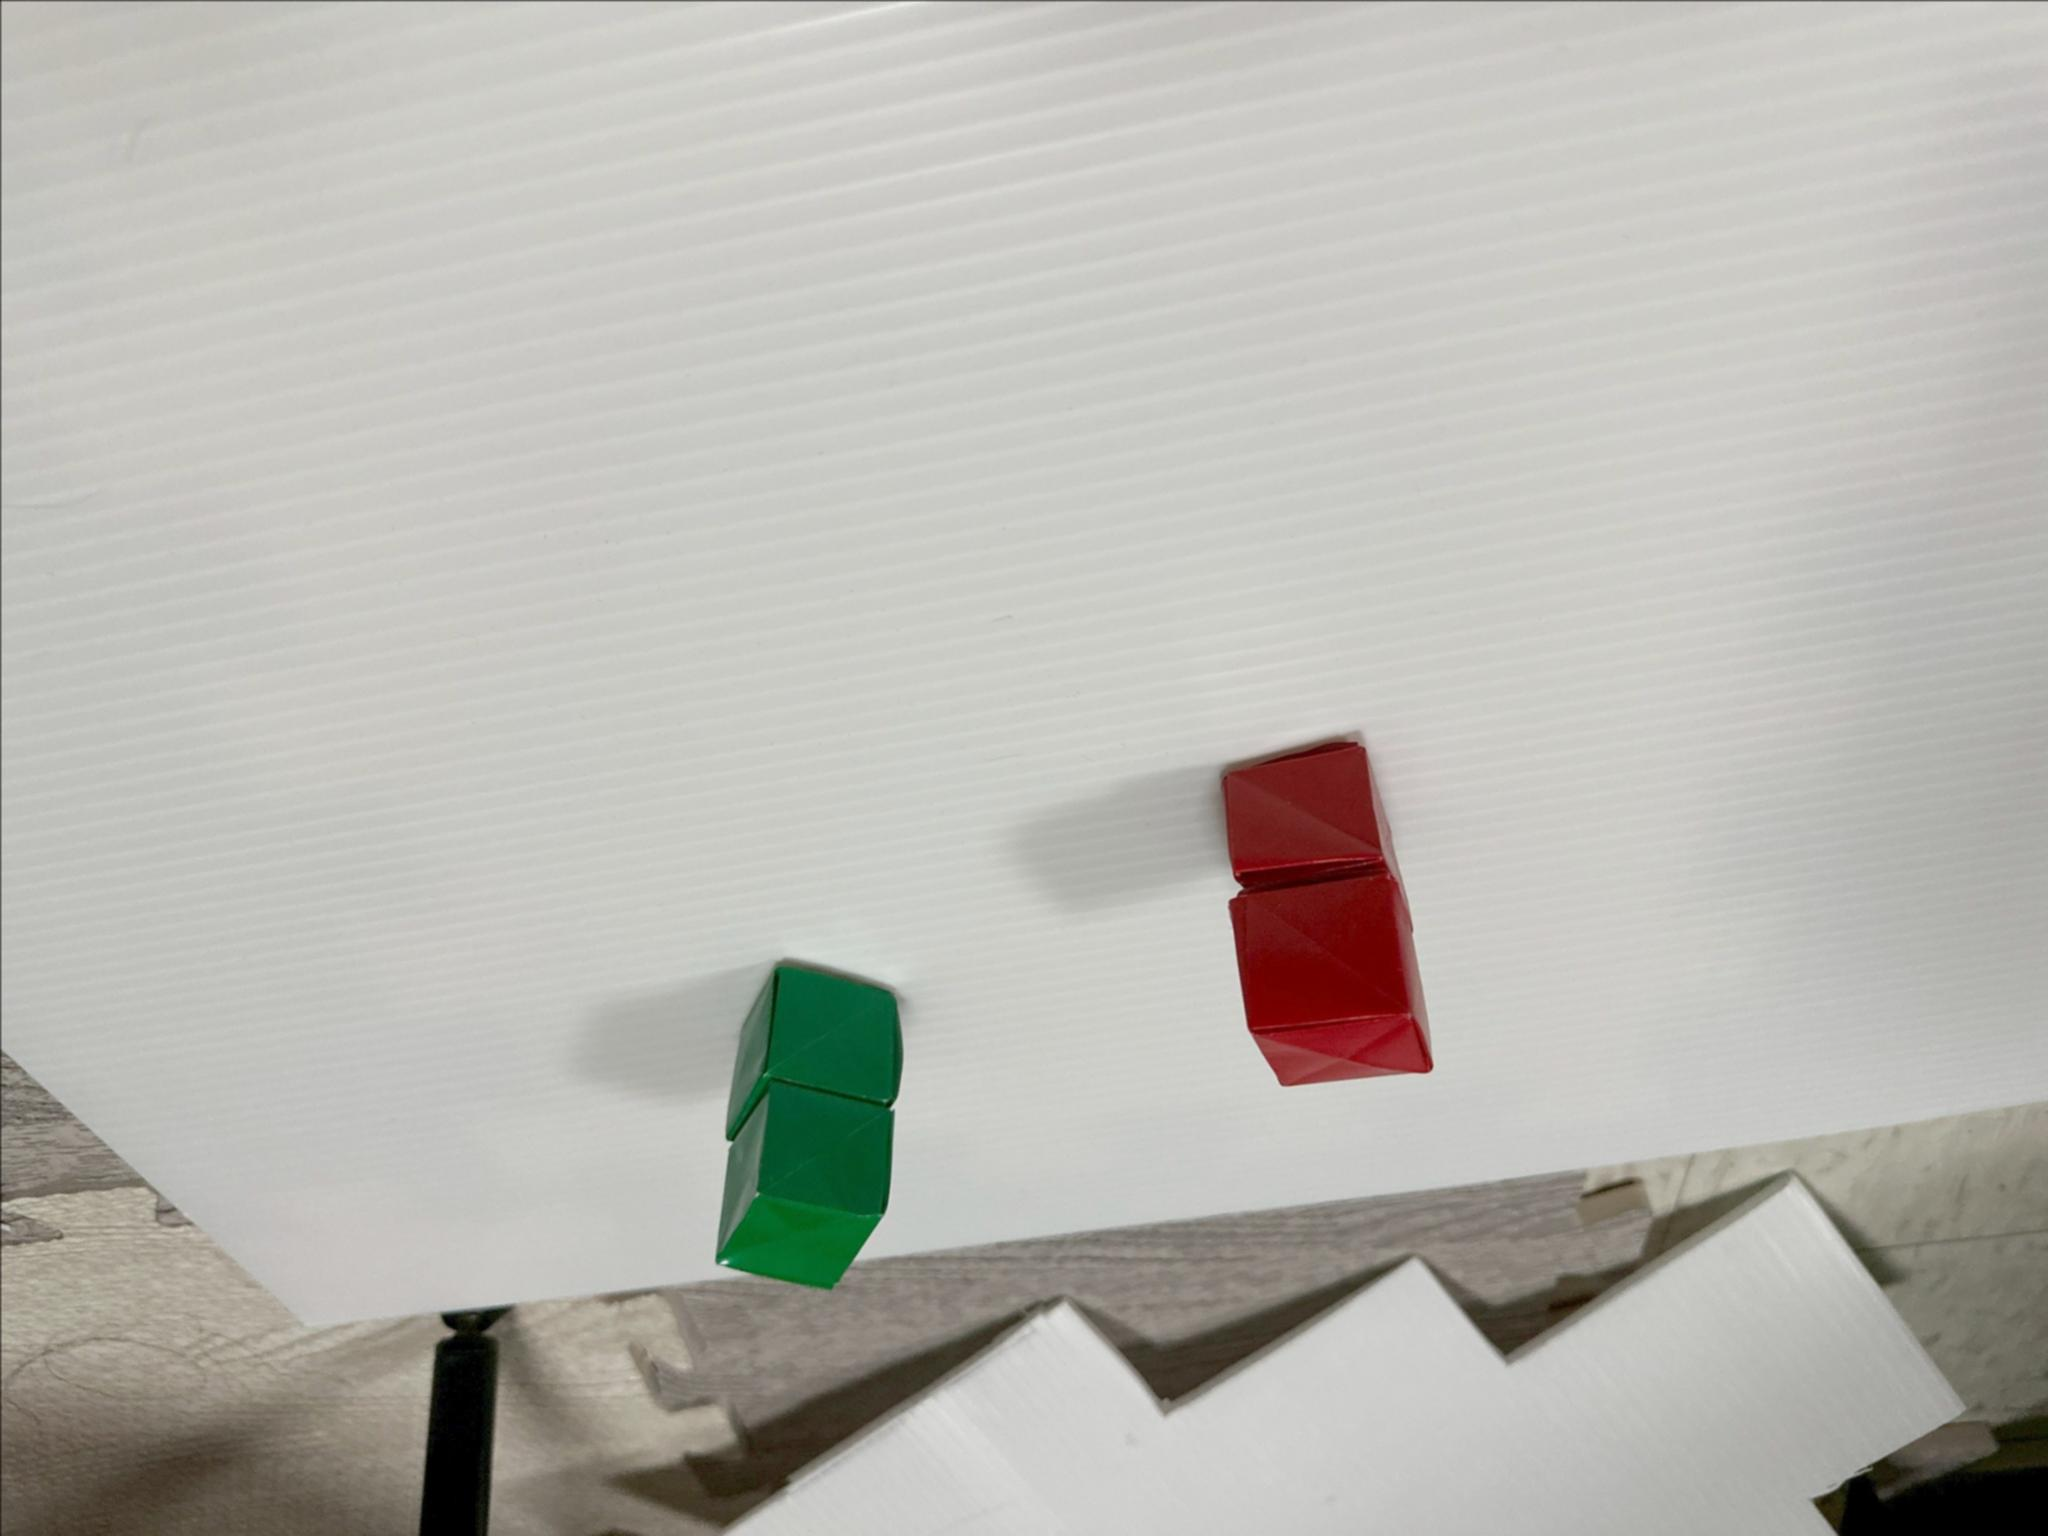base: (1230, 874, 1429, 1084), (716, 1081, 892, 1288), (726, 963, 900, 1142), (1221, 742, 1405, 902)
